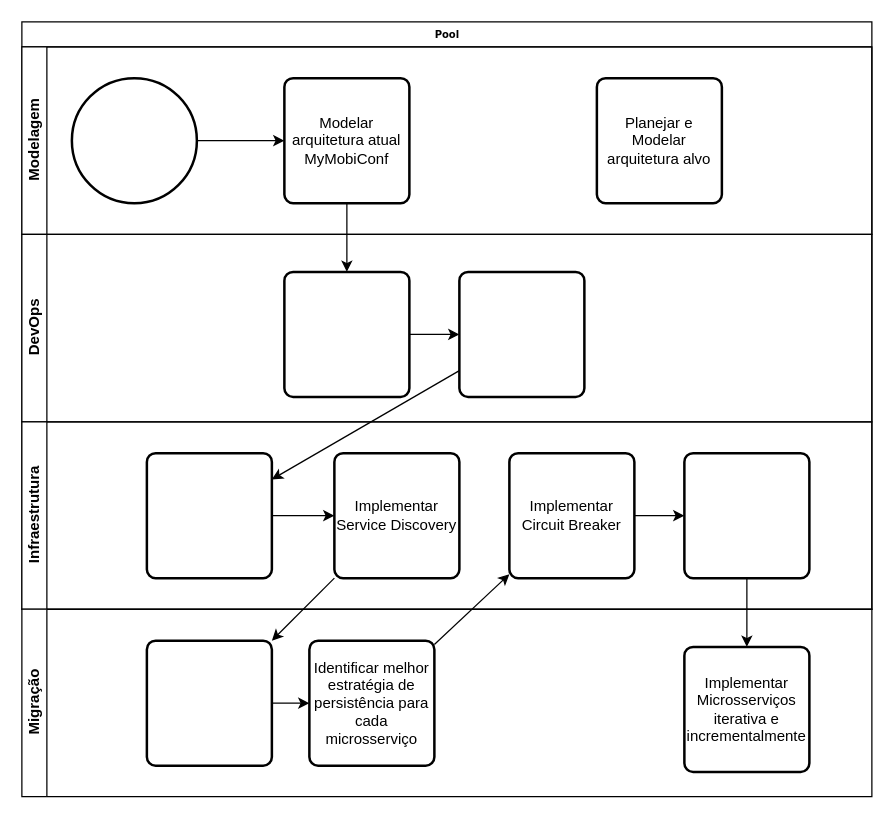
The diagram is 894 pixels wide and 819 high, and some of its shapes have lost their labels. The centre of each missing label's shape, as x and y in pixels:
"Aplicar DDD (Domain Driven Development) com Bounded Context" goes at (208,702).
"Configurar CI/CD" goes at (346,334).
"Configurar Docker Swarm" goes at (521,334).
"Implementar API Gateway" goes at (208,515).
"Implementar Load Balancer" goes at (746,515).
